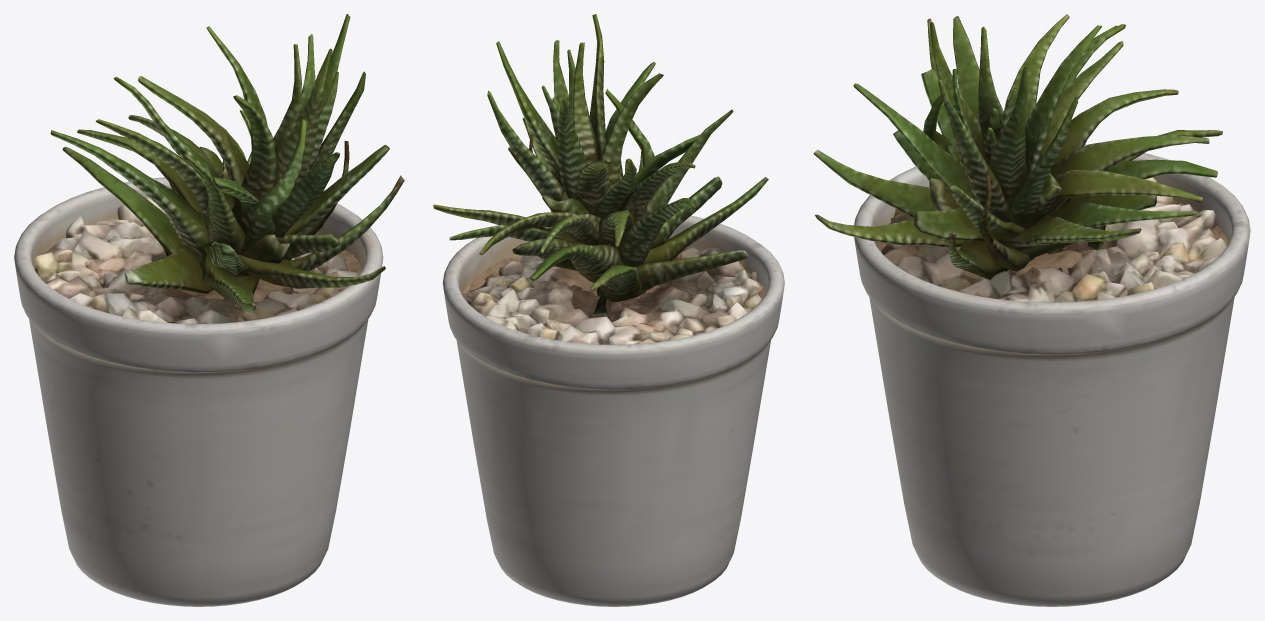
File: succulent.glb
The picture shows the model from 3 angles, left to right: view 1: azimuth 30°, elevation 25°; view 2: azimuth 150°, elevation 25°; view 3: azimuth 270°, elevation 25°; orthographic projection. The views are drawn at different scales.
Parts seen in each view (by area): view 1: potted_plant_04_ground; view 2: potted_plant_04_ground; view 3: potted_plant_04_ground.
Part boxes in pixels (bbox=[...]): potted_plant_04_ground: bbox=[14, 14, 404, 606]; potted_plant_04_ground: bbox=[433, 14, 784, 606]; potted_plant_04_ground: bbox=[813, 14, 1250, 606].
Size of the model in its own units: 0.1679 by 0.2675 by 0.1847.
Materials: 1 (1 with a texture image).
